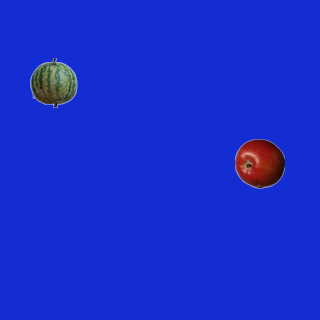Apple Braeburn: (234, 138, 284, 188)
Watermelon: (28, 57, 78, 107)
